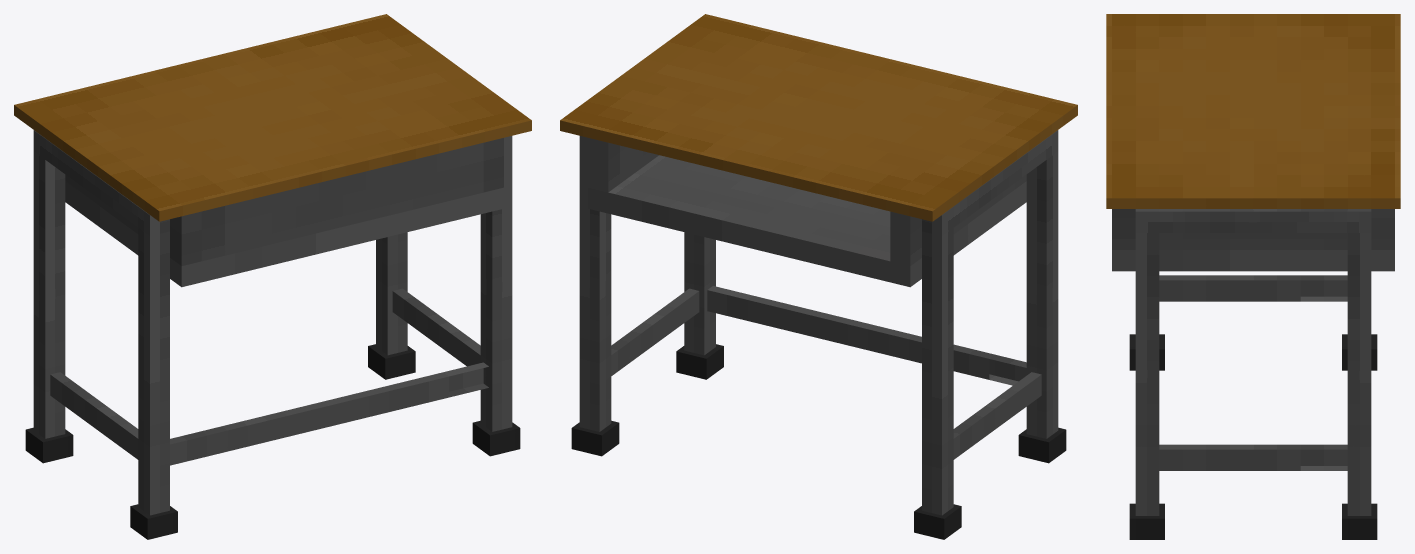
Rendered from desk.obj.
3 renders of one model, left to right at view 1: azimuth 30°, elevation 25°; view 2: azimuth 150°, elevation 25°; view 3: azimuth 270°, elevation 25°, orthographic.
Visible parts, largest first — view 1: cube; view 2: cube; view 3: cube.
Boxes of the visible parts, x1,y1,x2,y2 form: cube: (14, 14, 531, 539); cube: (560, 14, 1077, 539); cube: (1106, 14, 1400, 539).
Size of the model in its own units: 1.16 by 1 by 0.7812.
